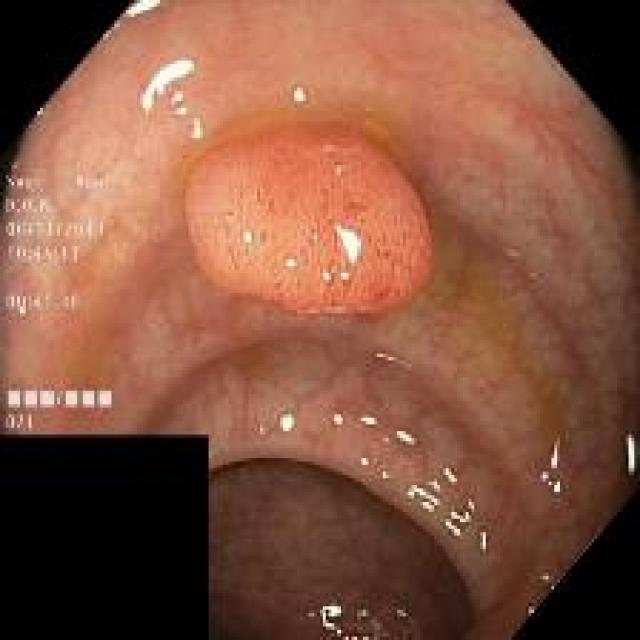Polyps: (185, 127, 434, 317)
